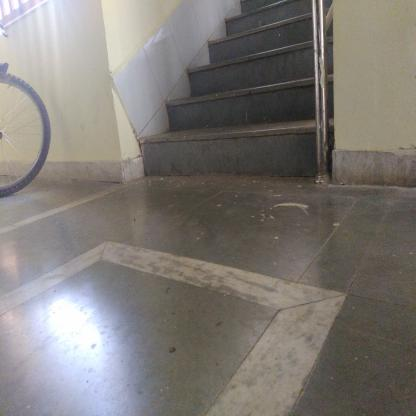stairs: (211, 37, 313, 188)
